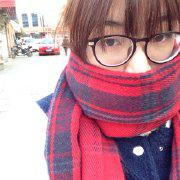WRONG: (90, 21, 173, 104)
